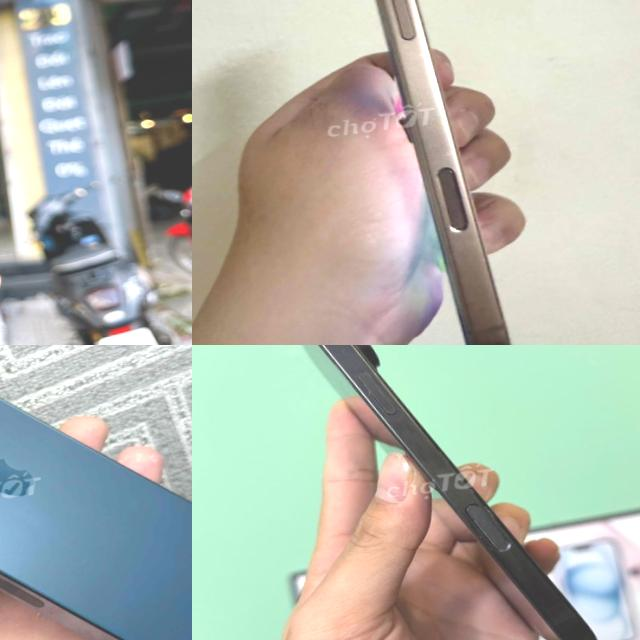gen_12_13: (0, 345, 192, 640)
gen_16: (304, 345, 595, 640), (306, 0, 542, 345)
